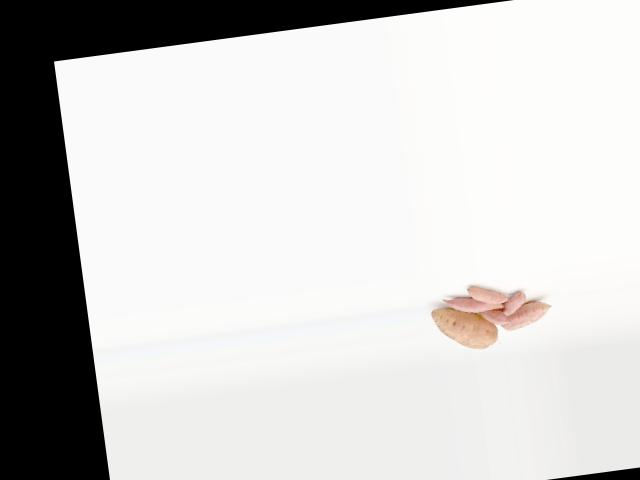sweet_potato: (499, 299, 555, 331)
